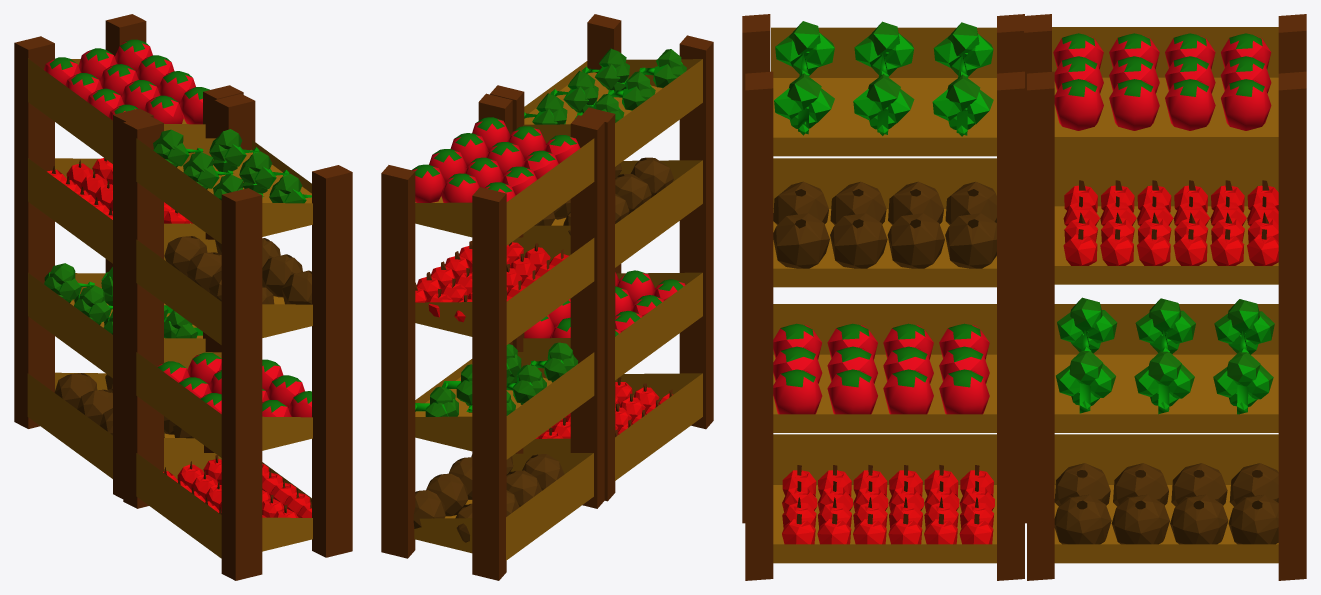
Rendered from fruit shelf.fbx.
3 renders of one model, left to right at view 1: azimuth 30°, elevation 25°; view 2: azimuth 150°, elevation 25°; view 3: azimuth 270°, elevation 25°, orthographic. The views are drawn at different scales.
Visible parts, largest first — view 1: beams, baskets, tomato2, brocolli2, coconut, tomato, apple, brocolli, coconut2, apple2; view 2: beams, baskets, tomato2, brocolli2, coconut2, apple2, brocolli, tomato, coconut, apple; view 3: baskets, beams, tomato2, coconut, tomato, coconut2, apple2, apple, brocolli, brocolli2.
Part boxes in pixels (left/top/right/bottom): beams: left=14, top=14, right=352, bottom=580; baskets: left=27, top=58, right=312, bottom=558; tomato2: left=44, top=39, right=209, bottom=124; brocolli2: left=153, top=129, right=311, bottom=203; coconut: left=164, top=236, right=311, bottom=304; tomato: left=157, top=352, right=311, bottom=417; apple: left=163, top=455, right=311, bottom=517; brocolli: left=44, top=263, right=202, bottom=338; coconut2: left=54, top=373, right=193, bottom=438; apple2: left=47, top=158, right=192, bottom=223; beams: left=381, top=14, right=713, bottom=580; baskets: left=414, top=59, right=702, bottom=560; tomato2: left=411, top=117, right=580, bottom=202; brocolli2: left=524, top=48, right=686, bottom=124; coconut2: left=413, top=454, right=564, bottom=542; apple2: left=415, top=241, right=568, bottom=322; brocolli: left=415, top=342, right=578, bottom=416; tomato: left=524, top=270, right=685, bottom=338; coconut: left=534, top=157, right=673, bottom=235; apple: left=535, top=377, right=672, bottom=438; baskets: left=771, top=27, right=1278, bottom=563; beams: left=742, top=14, right=1306, bottom=580; tomato2: left=1053, top=33, right=1271, bottom=130; coconut: left=773, top=181, right=996, bottom=268; tomato: left=773, top=323, right=989, bottom=414; coconut2: left=1054, top=463, right=1278, bottom=544; apple2: left=1063, top=180, right=1278, bottom=265; apple: left=782, top=465, right=994, bottom=544; brocolli: left=1056, top=297, right=1274, bottom=414; brocolli2: left=774, top=21, right=993, bottom=136.
Size of the model in its own units: 211 by 640 by 658.
